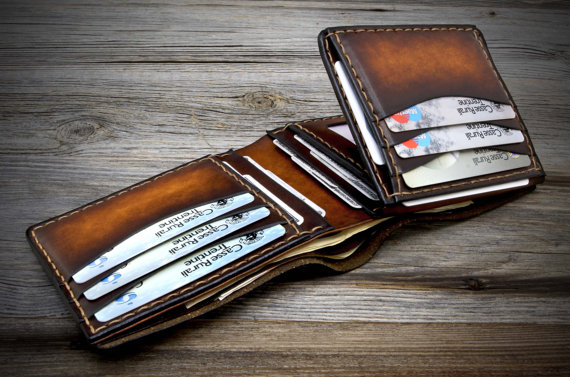monedero: (24, 23, 549, 360)
